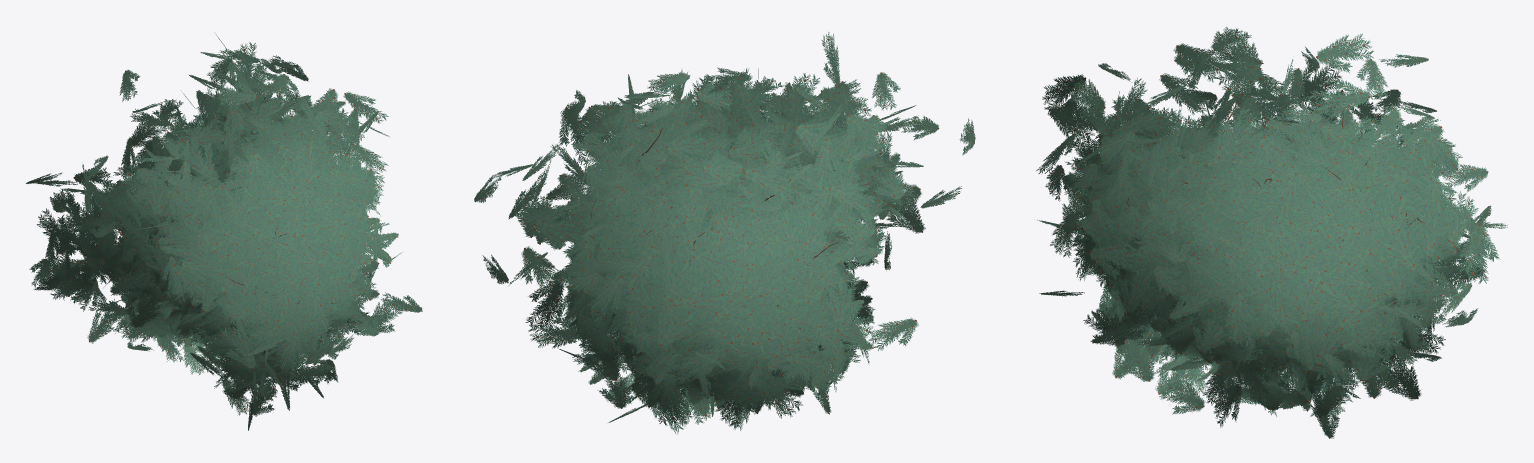
Rendered from JU1_Juniper_LowDense_1.2m.glb.
3 views of the same model, side by side, from view 1: azimuth 30°, elevation 25°; view 2: azimuth 150°, elevation 25°; view 3: azimuth 270°, elevation 25° (orthographic). The views are drawn at different scales.
Visible parts, largest first — view 1: JU1_leaves; view 2: JU1_leaves; view 3: JU1_leaves.
Boxes of the visible parts, box(x1,y1,x2,y2) form: JU1_leaves: box(26, 32, 422, 430); JU1_leaves: box(474, 32, 975, 433); JU1_leaves: box(1036, 27, 1507, 438).
Bounding box in the file's own units: 1.36 × 1.28 × 1.43.
2 materials, 2 textured.
